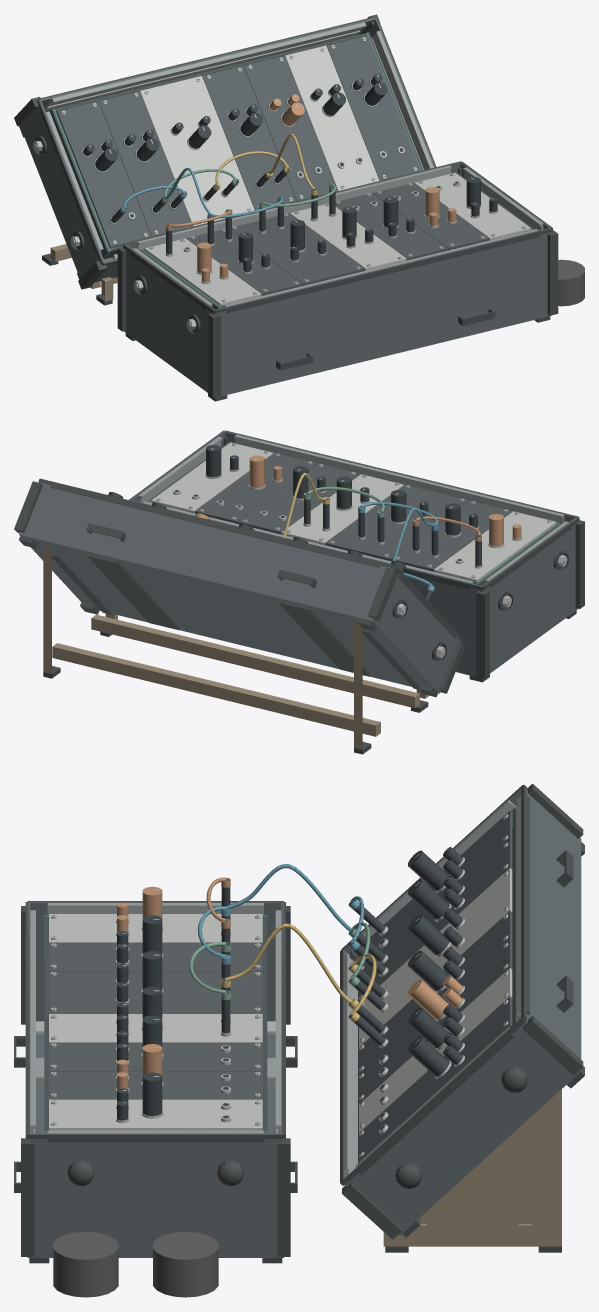
File: A-play-TW-01.glb
The picture shows the model from 3 angles, top to bottom: view 1: azimuth 30°, elevation 25°; view 2: azimuth 150°, elevation 25°; view 3: azimuth 270°, elevation 25°; orthographic projection. The views are drawn at different scales.
Parts seen in each view (by area): view 1: base, lid, world; view 2: lid, base, world; view 3: base, lid, world.
Boxes of the visible parts, box(x1,y1,x2,y2) form: base: box(117, 161, 558, 401); lid: box(14, 14, 436, 289); world: box(42, 133, 584, 306); lid: box(14, 478, 465, 697); base: box(129, 430, 584, 682); world: box(43, 472, 436, 754); base: box(14, 877, 297, 1263); lid: box(340, 783, 584, 1239); world: box(53, 864, 561, 1297).
Bounding box in the file's own units: 0.3884 × 0.164 × 0.3433.
